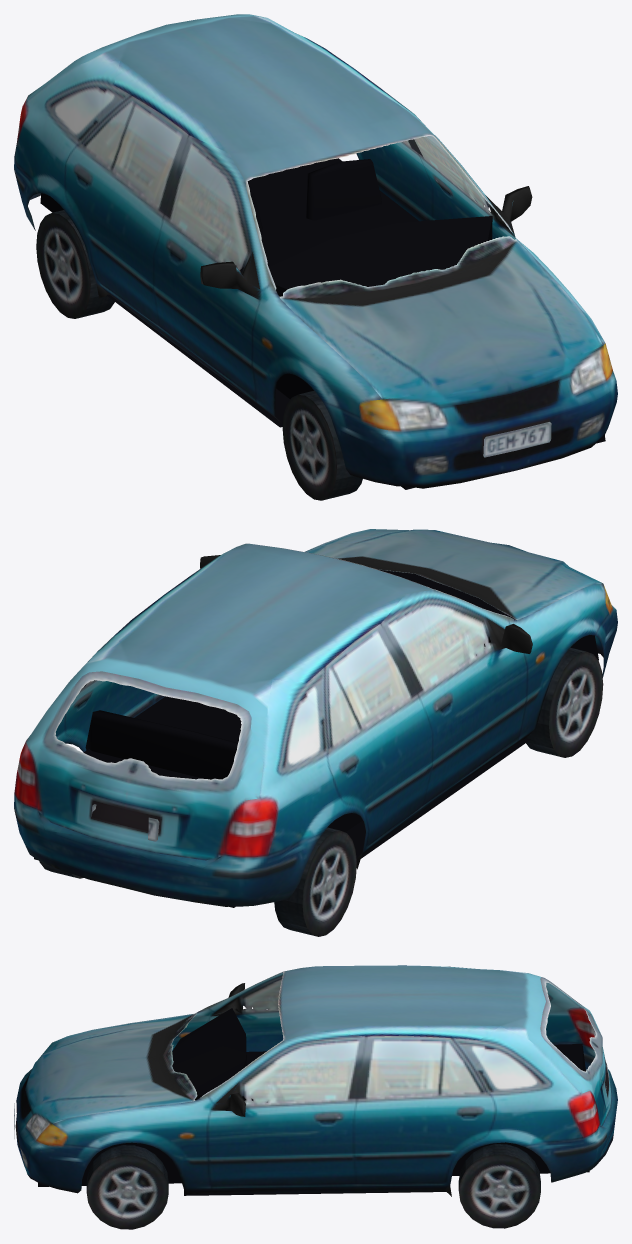
Rendered from lwpg003.obj.
The picture shows the model from 3 angles, top to bottom: view 1: azimuth 30°, elevation 25°; view 2: azimuth 150°, elevation 25°; view 3: azimuth 270°, elevation 25°; orthographic projection. The views are drawn at different scales.
Parts seen in each view (by area): view 1: lwpg003; view 2: lwpg003; view 3: lwpg003.
Part boxes in pixels (<box>): lwpg003: <box>14,14,617,500</box>; lwpg003: <box>14,529,617,936</box>; lwpg003: <box>14,965,617,1229</box>.
Size of the model in its own units: 1.96 by 1.4 by 4.11.
Materials: 2 (1 with a texture image).
